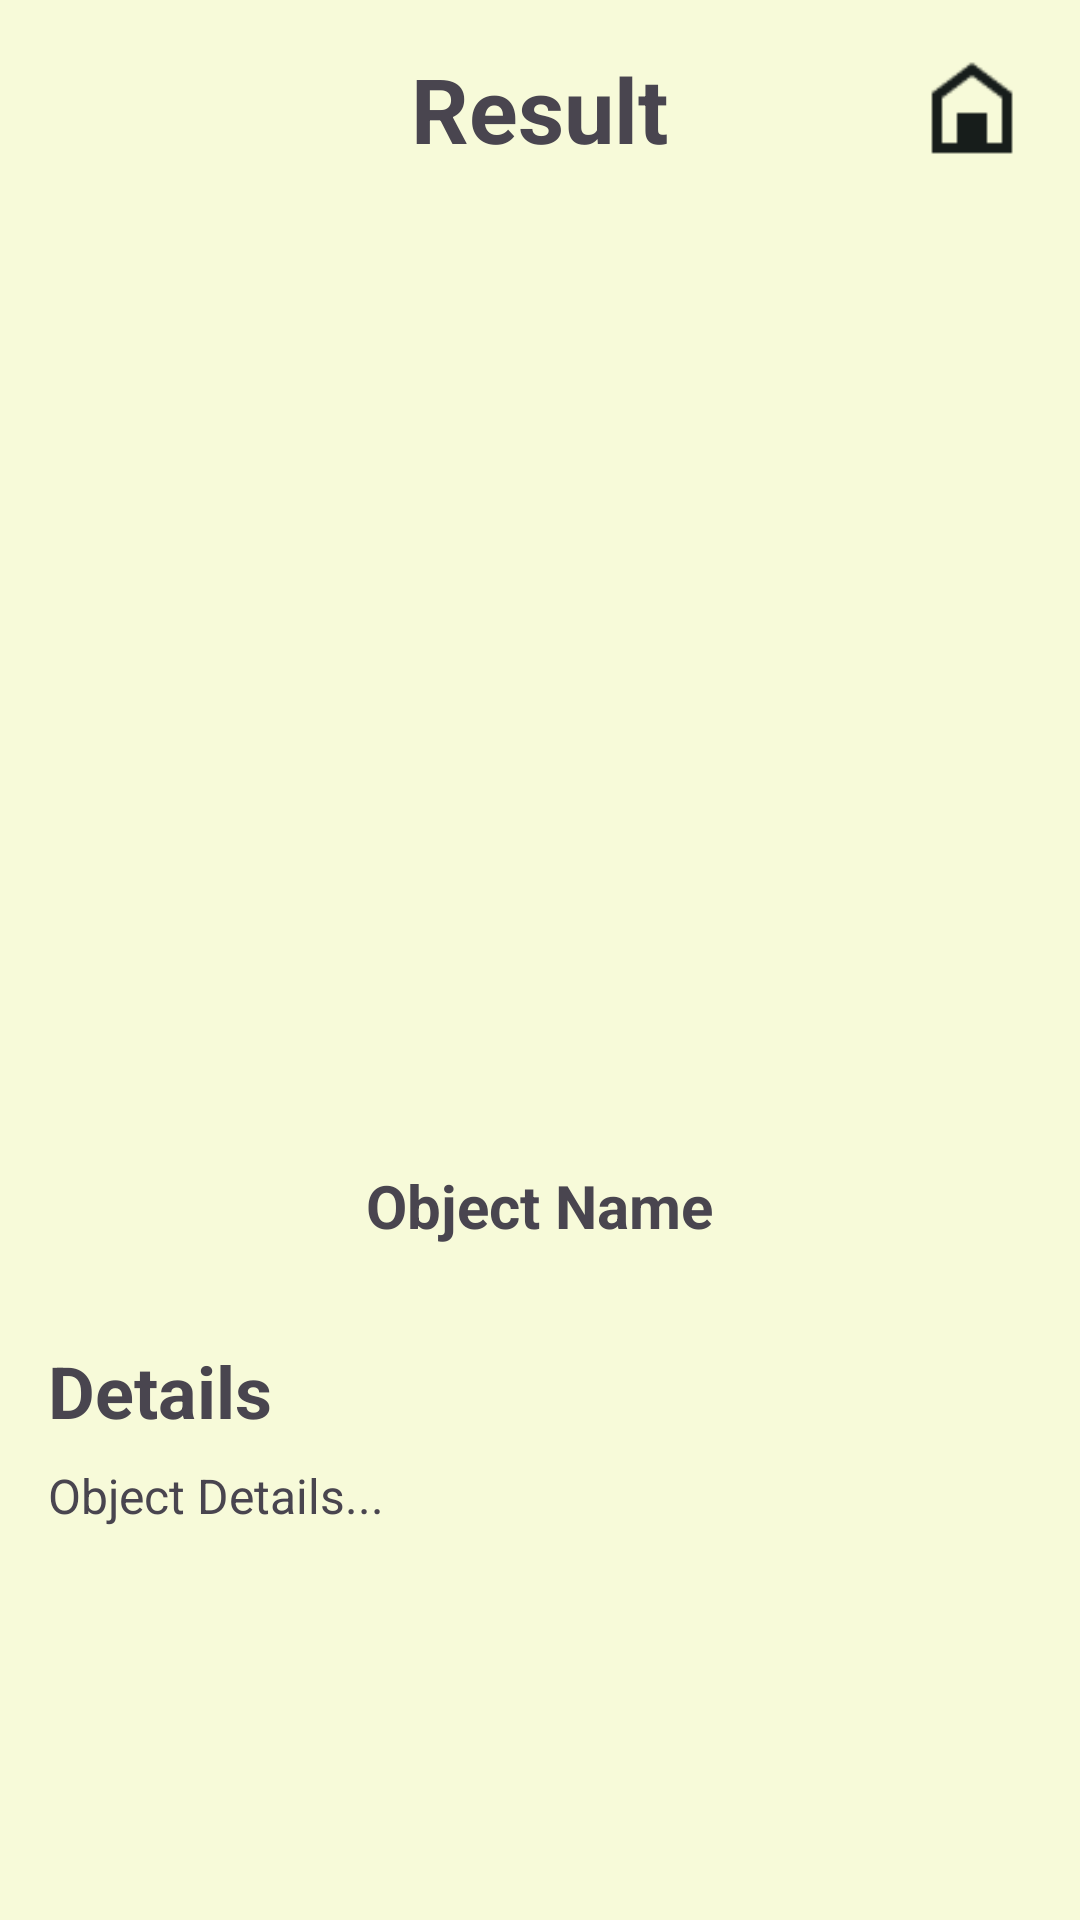

Locate icon controls on the screen. Image size 1080px x 1920px, boxes as (x1,y1,x2,y2).
home: (931,62,1013,154)
